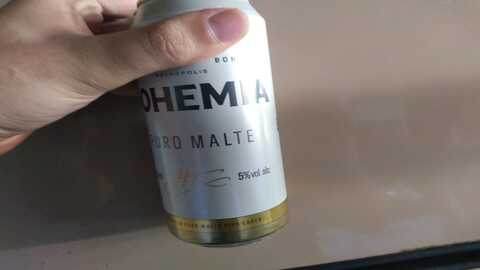bohemia: (138, 1, 288, 242)
